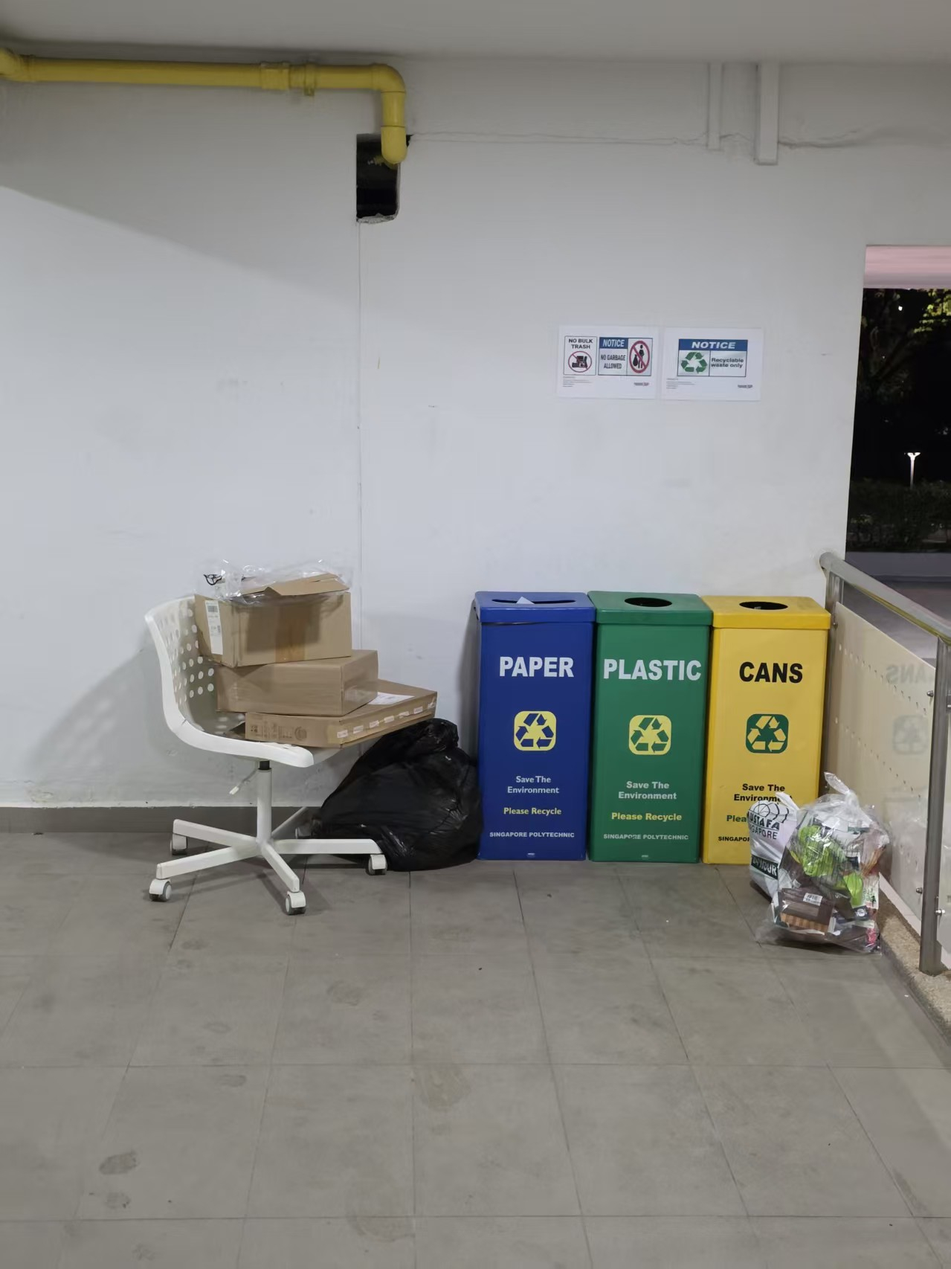bin_empty: (702, 596, 830, 866), (588, 591, 711, 861), (474, 590, 594, 861)
bulk_waste: (146, 599, 387, 914), (309, 719, 483, 870), (187, 564, 352, 667), (243, 682, 436, 748), (216, 650, 378, 716)
normal_waste: (748, 773, 889, 953)
